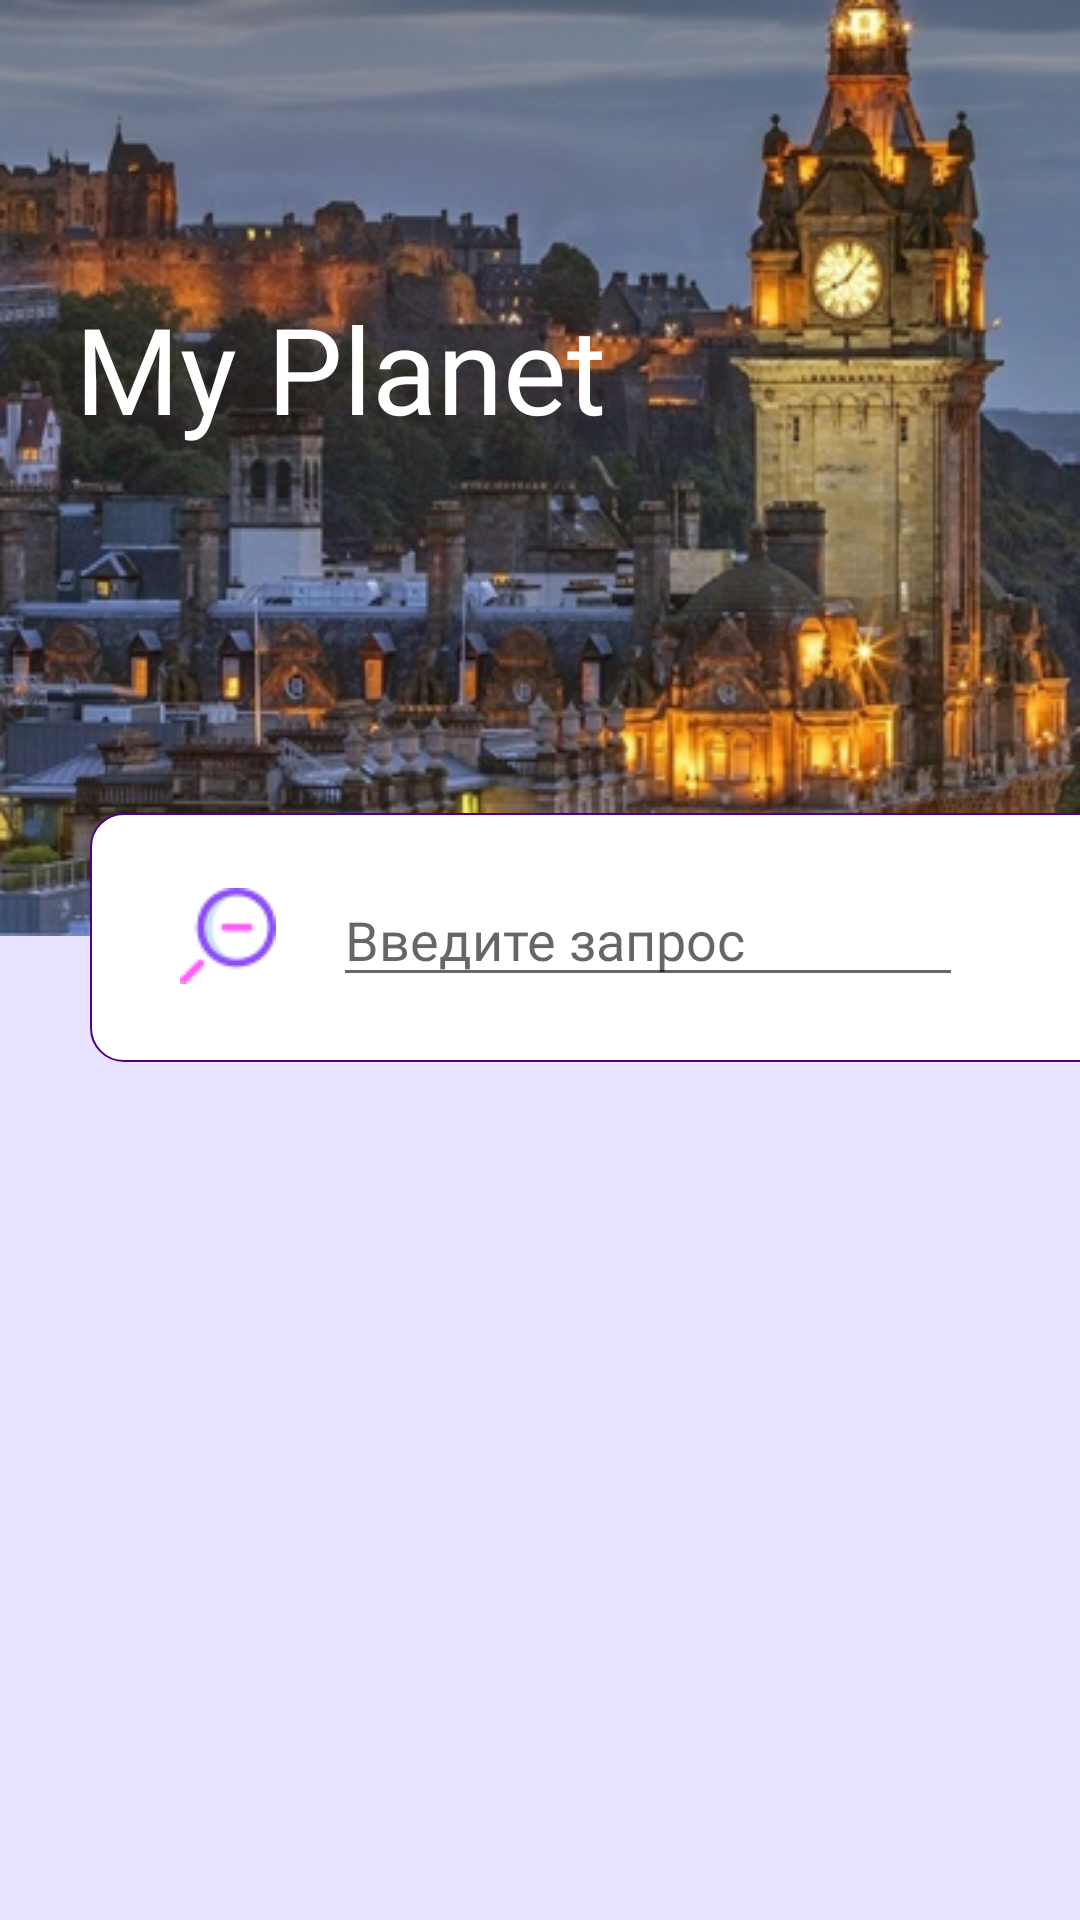

Screen size 1080w x 1920h. Icon name, then its center in pixels as [x,y]:
zoom: [228,936]
